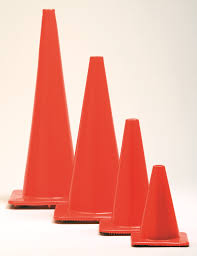cones: (10, 10, 75, 205), (53, 57, 119, 222), (99, 119, 156, 233), (129, 165, 191, 248)
